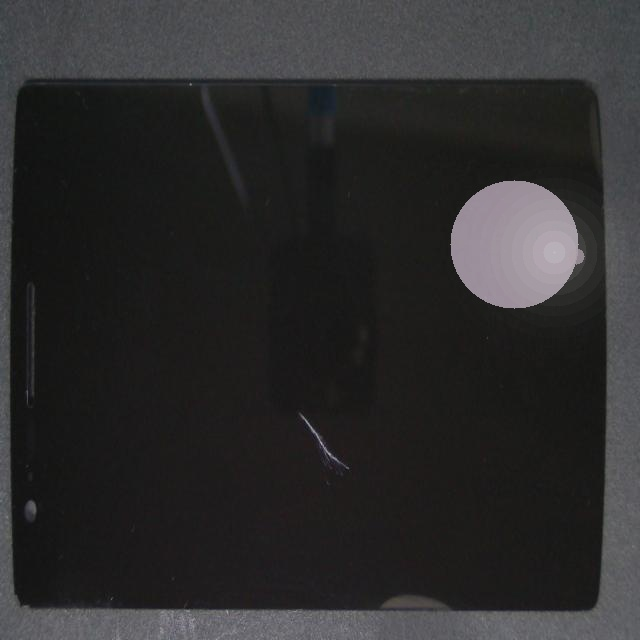scratch: (118, 167, 453, 640)
